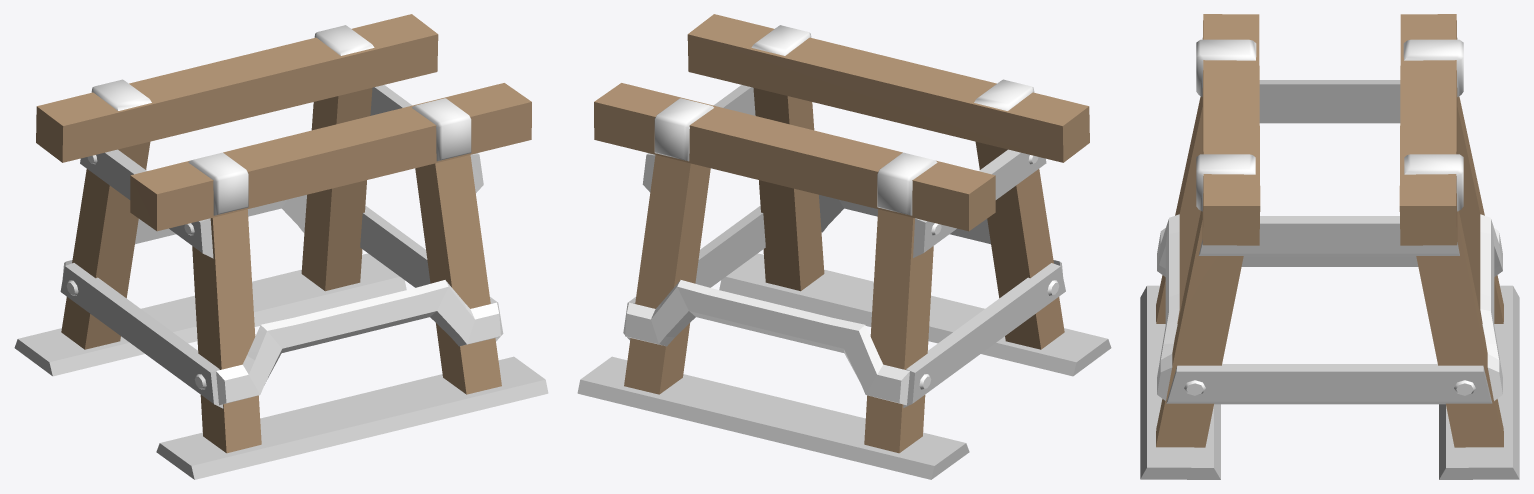
Rendered from whetstone.glb.
The picture shows the model from 3 angles, left to right: view 1: azimuth 30°, elevation 25°; view 2: azimuth 150°, elevation 25°; view 3: azimuth 270°, elevation 25°; orthographic projection. The views are drawn at different scales.
Visible parts, largest first — view 1: Whetstone; view 2: Whetstone; view 3: Whetstone.
Boxes of the visible parts, box(x1,y1,x2,y2) form: Whetstone: box(14, 14, 548, 479); Whetstone: box(577, 14, 1111, 479); Whetstone: box(1140, 14, 1519, 479).
Bounding box in the file's own units: 1 × 0.6881 × 0.8314.
